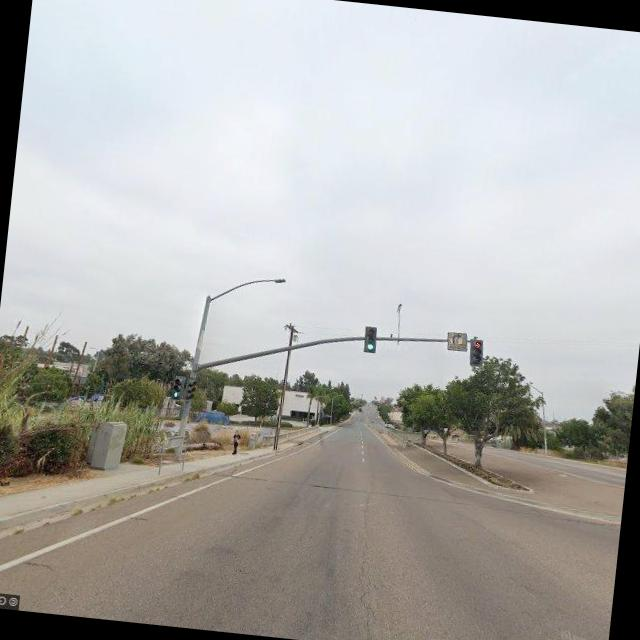pothole: (342, 494, 392, 640)
